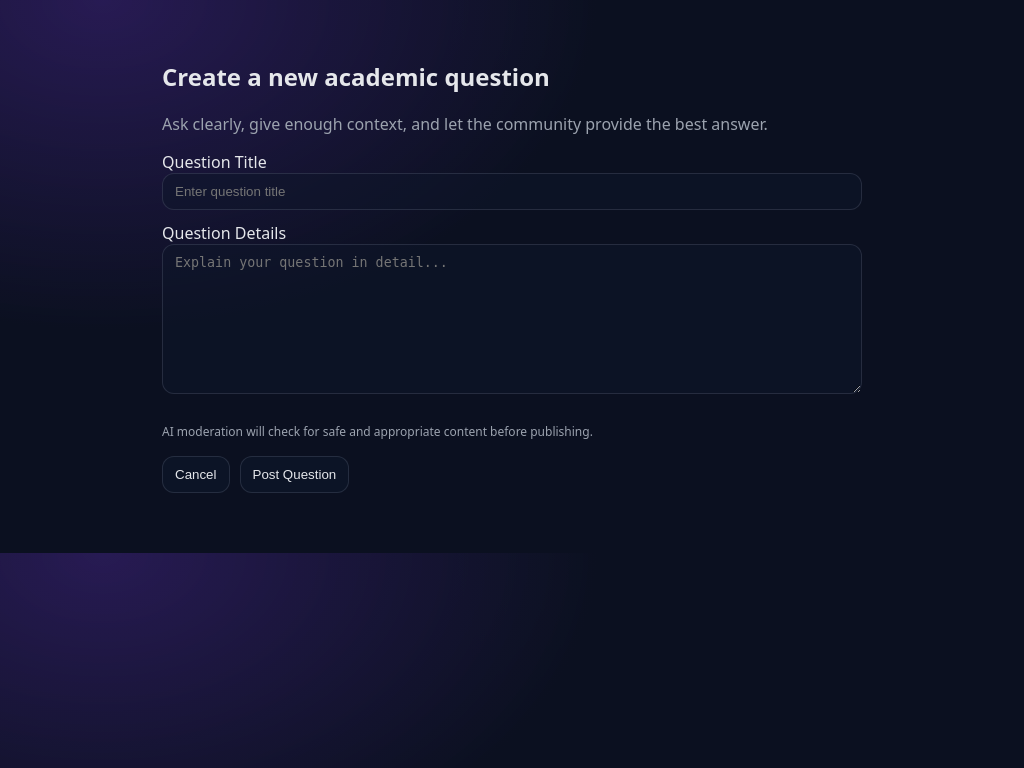
Test: CreatePost page › shows validation error for short content
This screenshot has width=1024, height=768.
Type "Short post" into the field with placeholder "Enter question title".
click(512, 191); type("Short post")  # box x1=162 y1=173 x2=862 y2=210
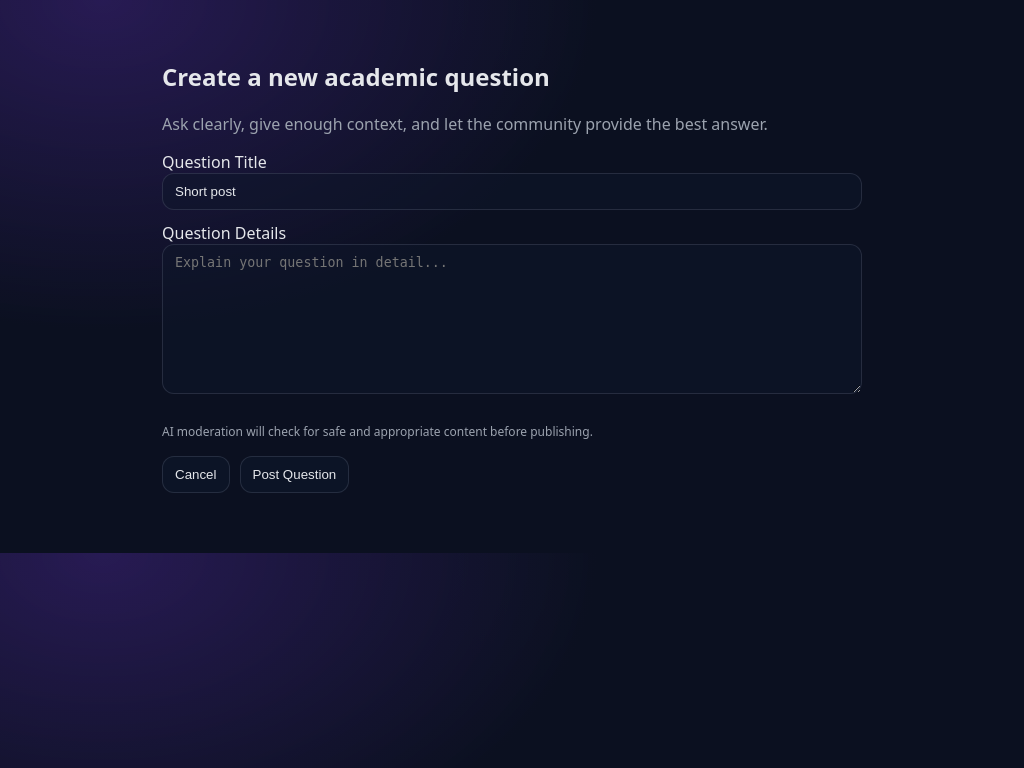
Type "short" into the text box with placeholder "Explain your question in detail...".
click(512, 319); type("short")  # box x1=162 y1=244 x2=862 y2=394
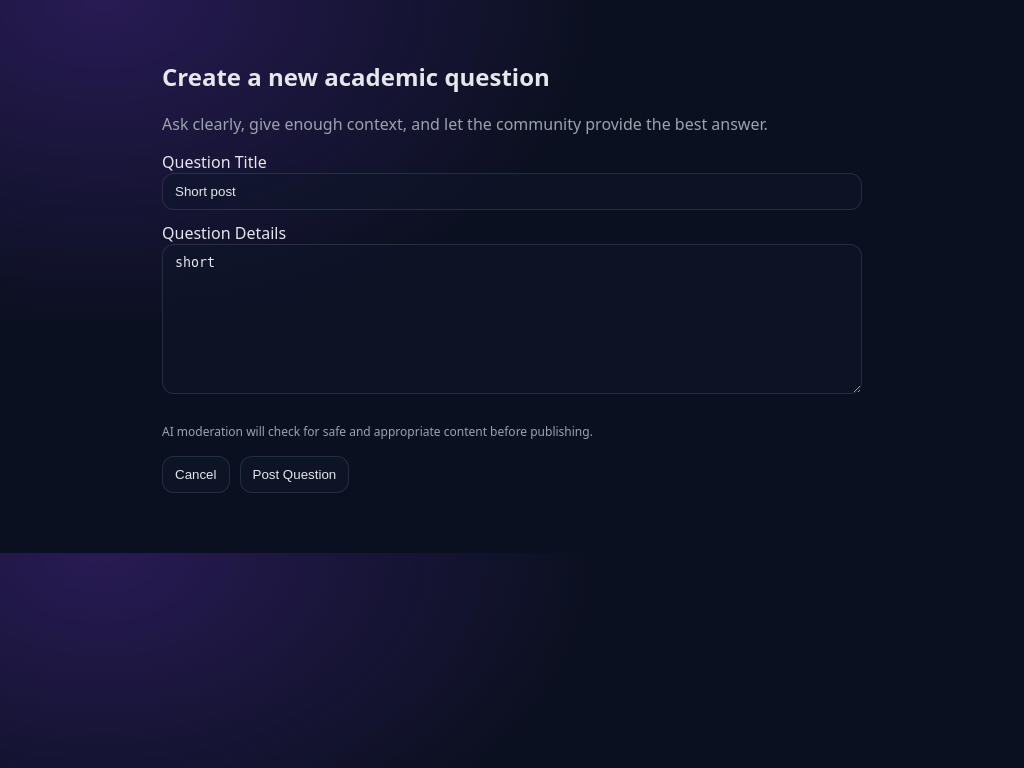
Click the button "Post Question".
click(294, 474)  # box x1=240 y1=456 x2=349 y2=493
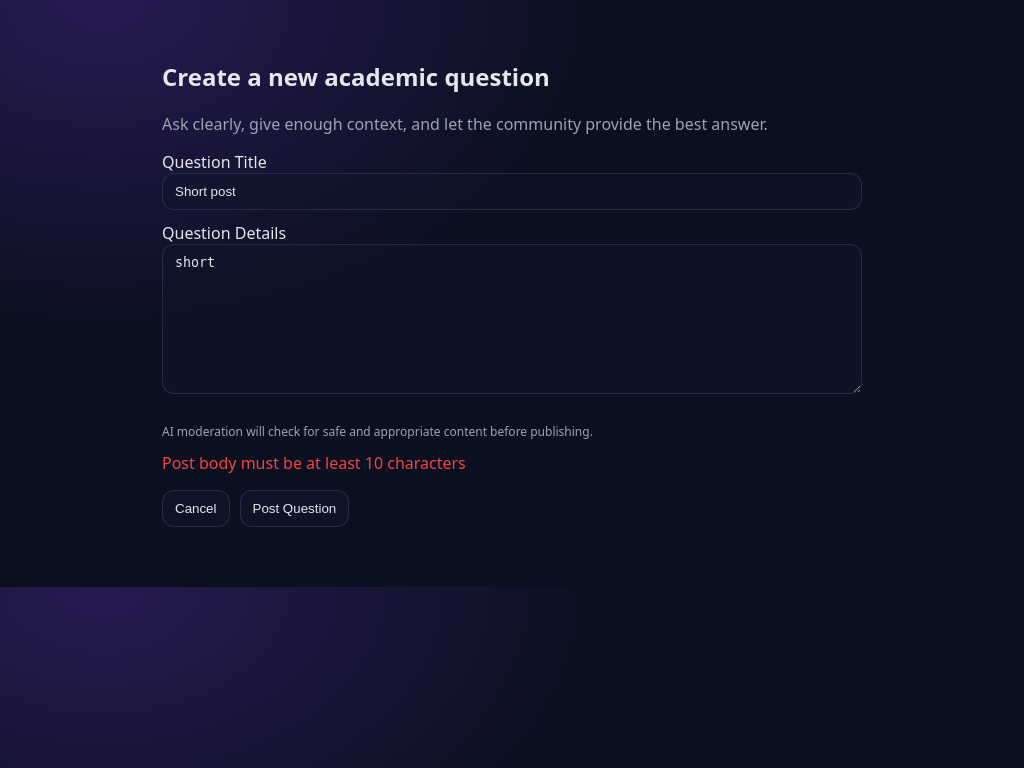
Expected: the text "Post body must be at least 10 characters" is shown, x1=162 y1=452 x2=466 y2=474
